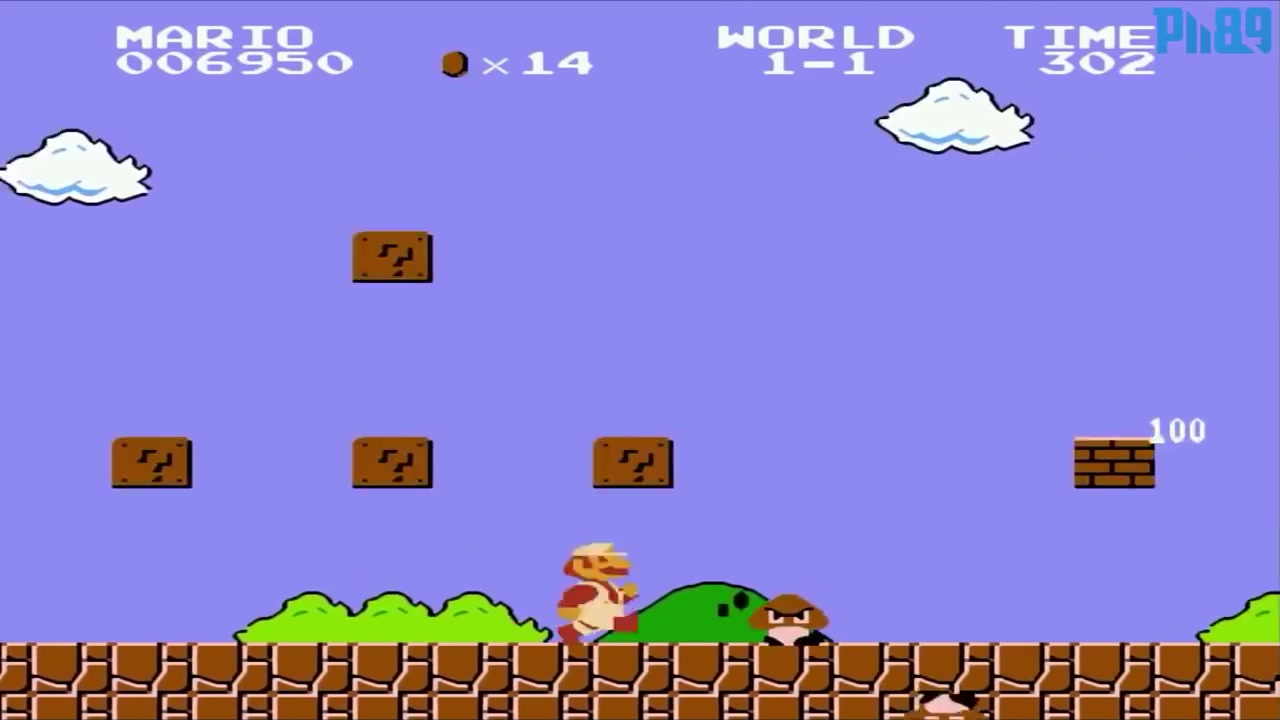mario: (540, 530, 658, 648)
